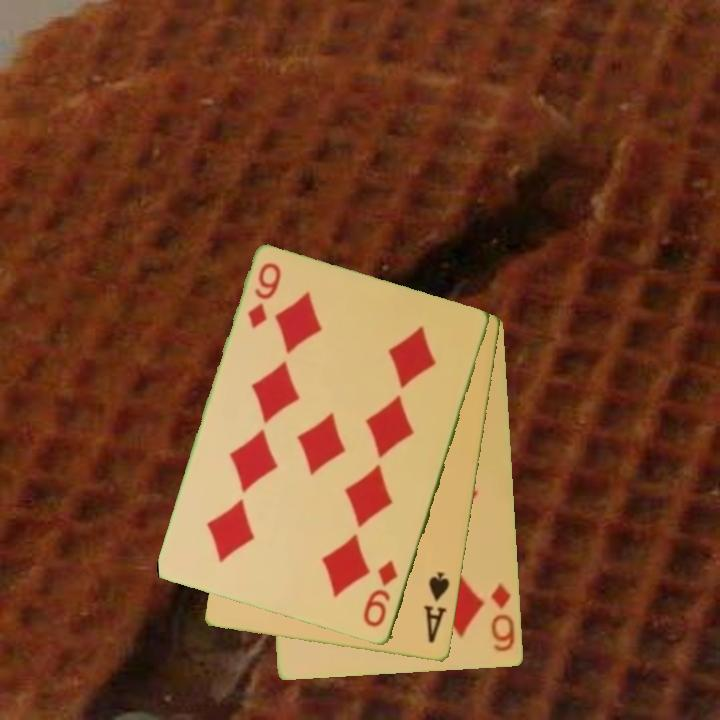6d: (487, 580, 518, 655)
9d: (360, 557, 401, 631), (244, 259, 284, 332)
As: (421, 568, 453, 647)
